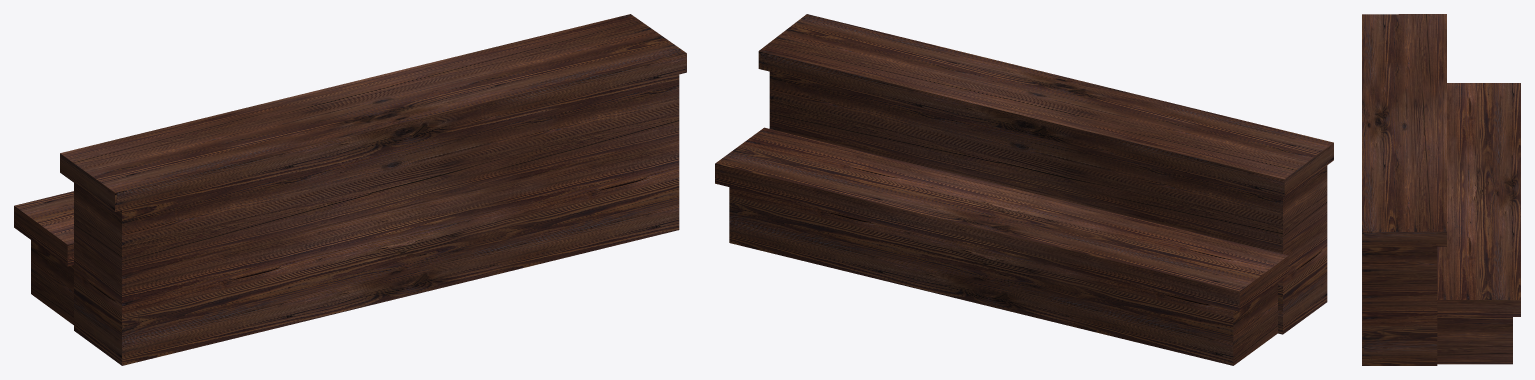
Rendered from Stairs.fbx.
3 renders of one model, left to right at view 1: azimuth 30°, elevation 25°; view 2: azimuth 150°, elevation 25°; view 3: azimuth 270°, elevation 25°, orthographic. The views are drawn at different scales.
Visible parts, largest first — view 1: Stairs; view 2: Stairs; view 3: Stairs.
Boxes of the visible parts, bbox=[...] form: Stairs: bbox=[14, 14, 686, 365]; Stairs: bbox=[715, 14, 1333, 365]; Stairs: bbox=[1362, 14, 1520, 365].
Size of the model in its own units: 103 by 30 by 31.6.
